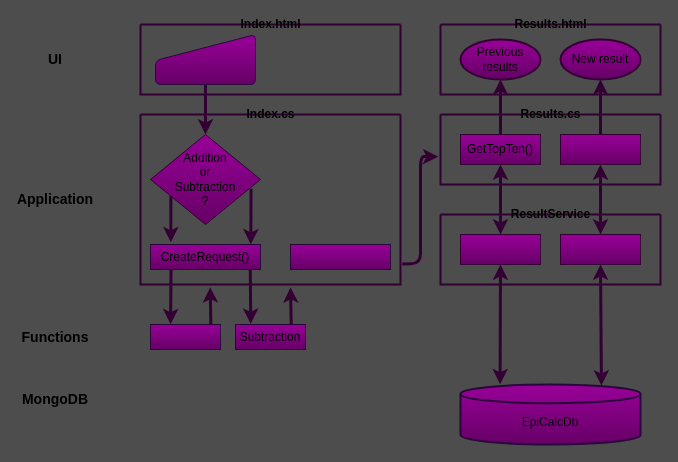
The diagram is 678 pixels wide and 462 high, and some of its shapes have lost their labels. Here are the shapes that lost their labels. From the top down, the centre of each, then its label:
At [205,59]: "Input form".
At [600,149]: "AddResult()".
At [340,257]: "CreateResult()".
At [500,249]: "Get()".
At [600,249]: "Create()".
At [185,337]: "Addition".
